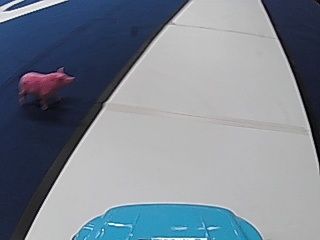pig: (18, 65, 72, 108)
